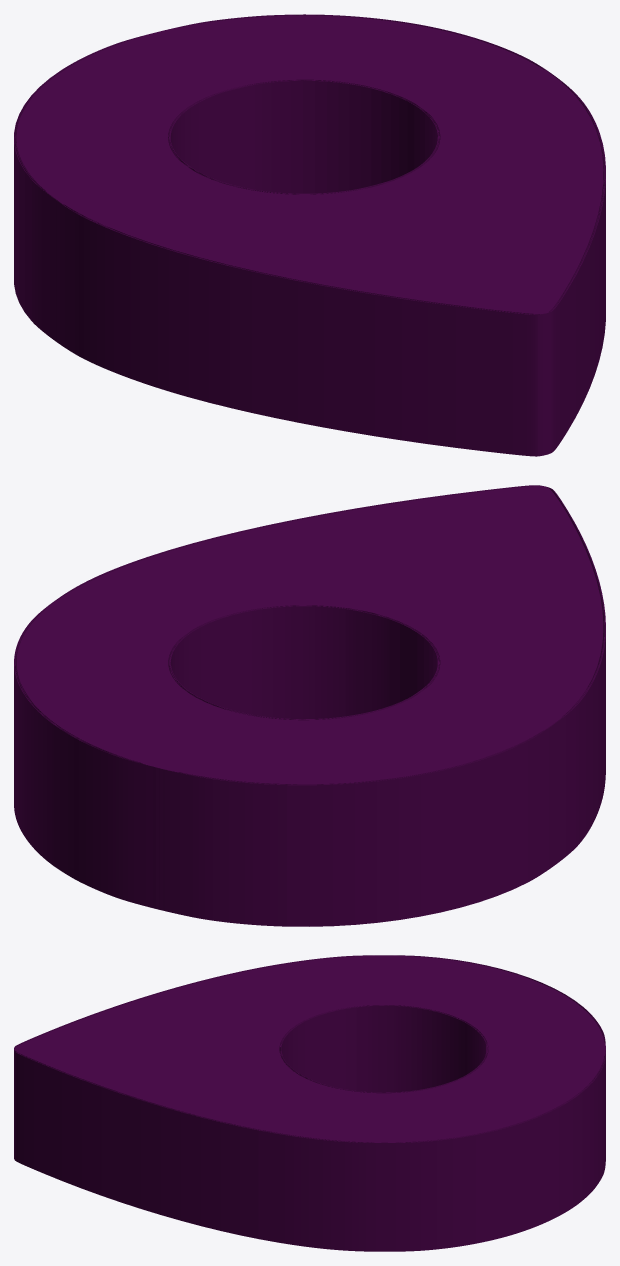
Rendered from 3dposFill.fbx.
3 renders of one model, top to bottom at view 1: azimuth 30°, elevation 25°; view 2: azimuth 150°, elevation 25°; view 3: azimuth 270°, elevation 25°, orthographic. The views are drawn at different scales.
Visible parts, largest first — view 1: 3dfill; view 2: 3dfill; view 3: 3dfill.
Boxes of the visible parts, x1,y1,x2,y2 form: 3dfill: (14, 14, 605, 456); 3dfill: (14, 485, 605, 926); 3dfill: (14, 955, 605, 1251).
Bounding box in the file's own units: 25.95 × 7 × 34.56.
